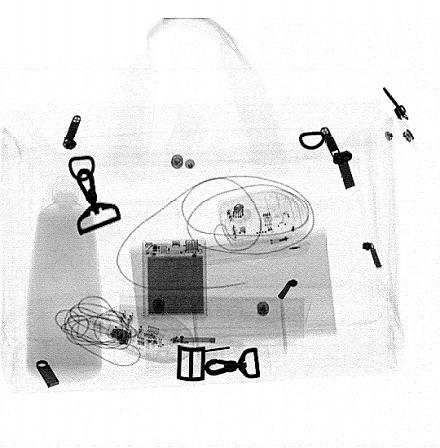Powerbank: (142, 238, 208, 320)
